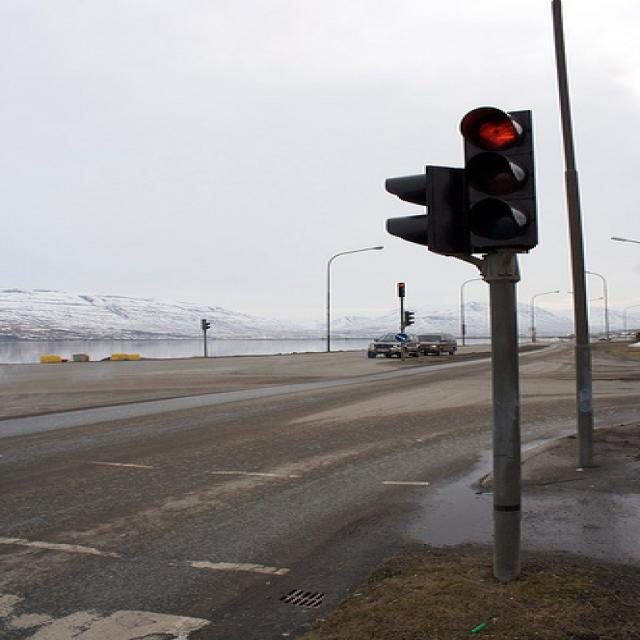Vehicle: (367, 331, 425, 359), (421, 332, 462, 358), (599, 337, 612, 341)
